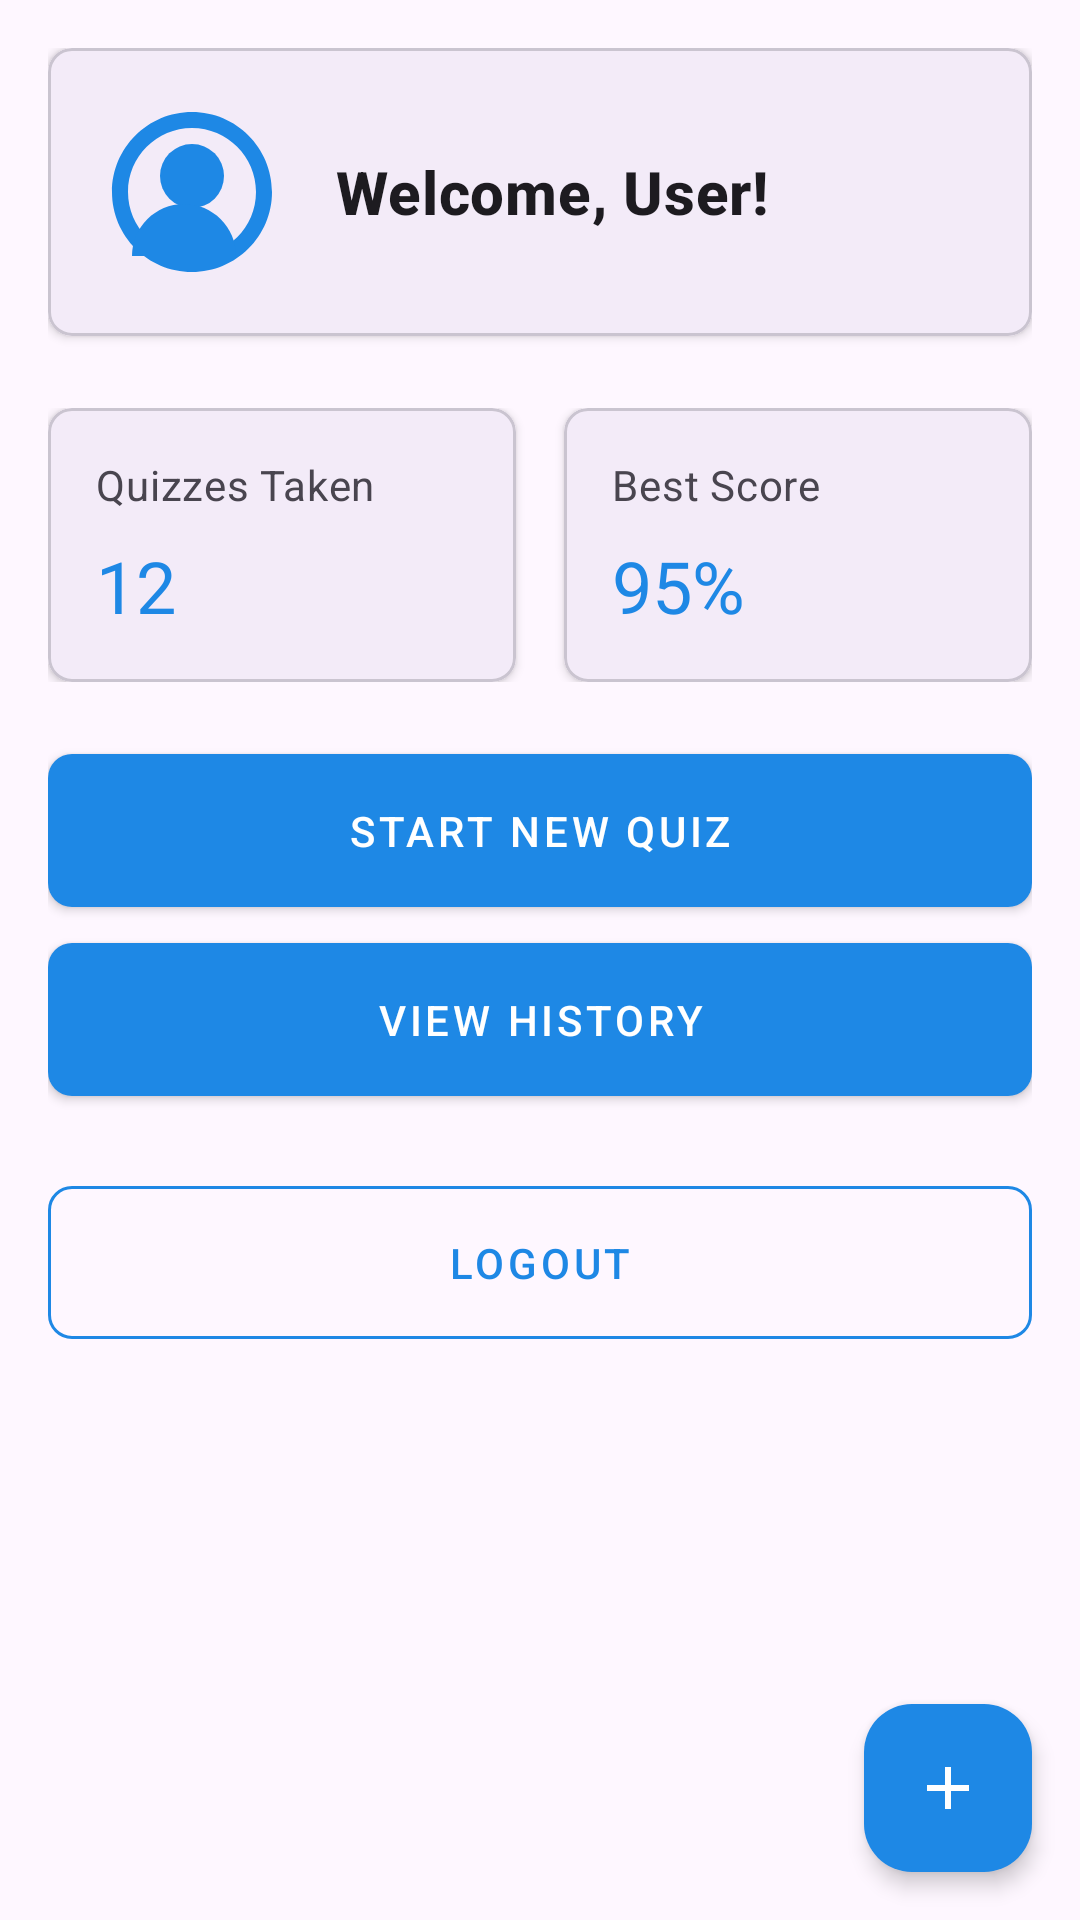

Icon bounding boxes for this 1080px x 1920px phone screenshot, format bbox=[x1, y1, x2, y2]:
Add new question: bbox=[864, 1704, 1032, 1872]
